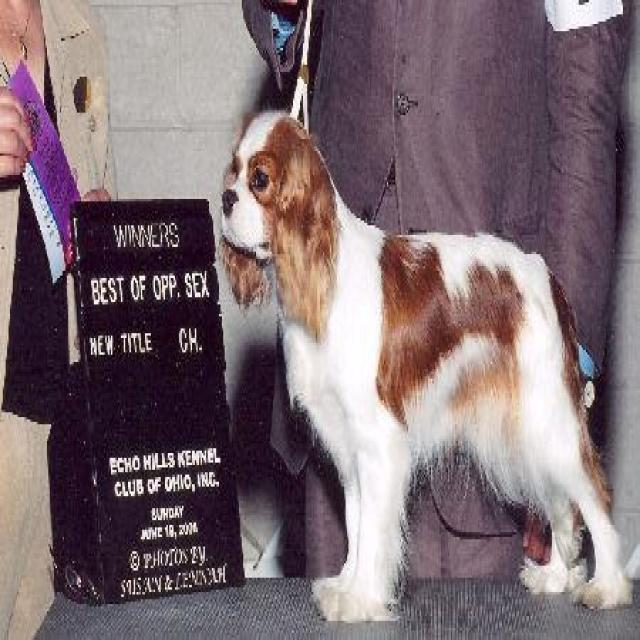blenheim_spaniel: (218, 110, 632, 626)
